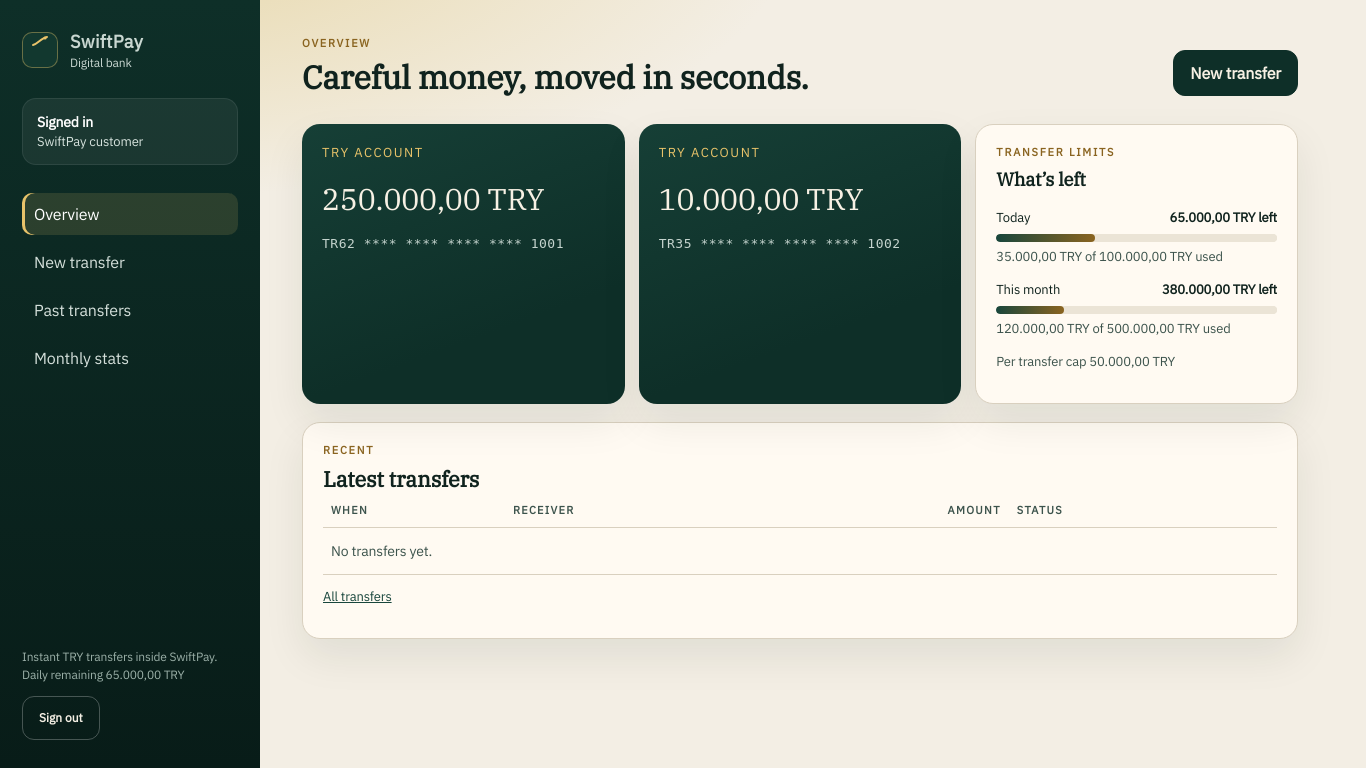
Test case: authentication › sign out clears the session
This screenshot has width=1366, height=768.
Click the button "Sign out". click: (61, 718)
box: [22, 696, 100, 740]
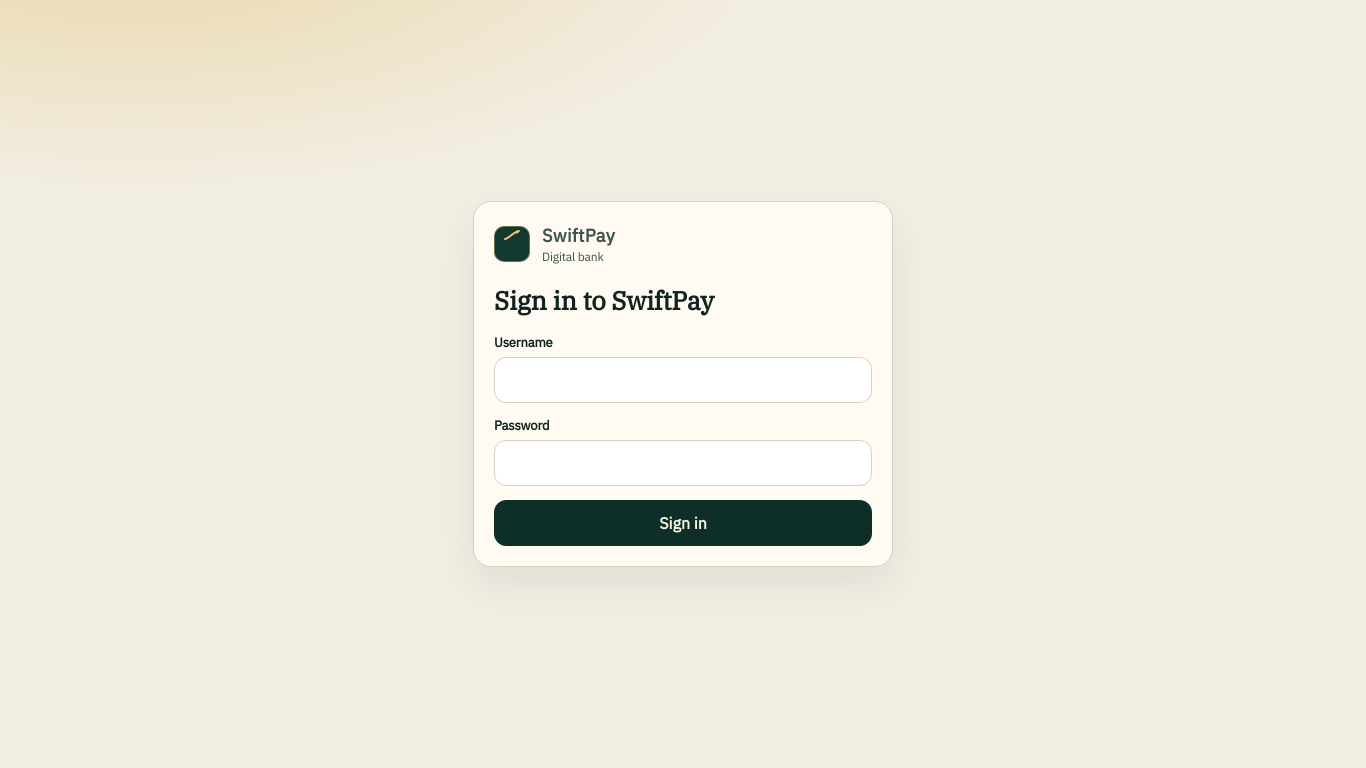
Expected: the heading "Sign in to SwiftPay" is shown, [494, 284, 714, 317]
